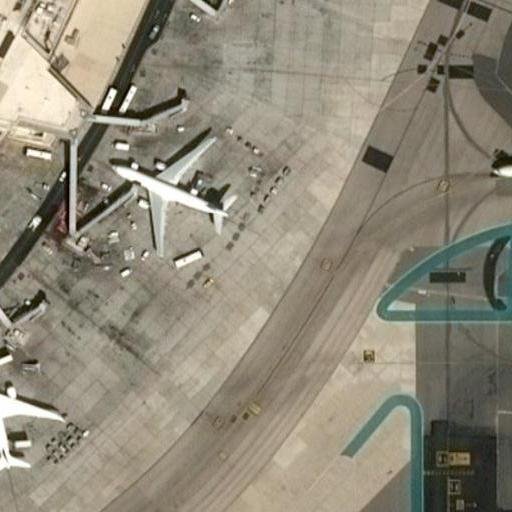Aircraft: (108, 135, 243, 252), (0, 350, 58, 474), (486, 97, 512, 236)
